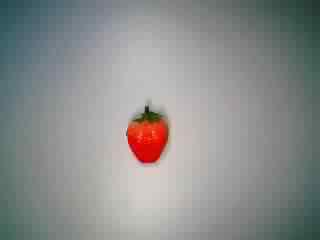strawberry: (116, 101, 184, 165)
